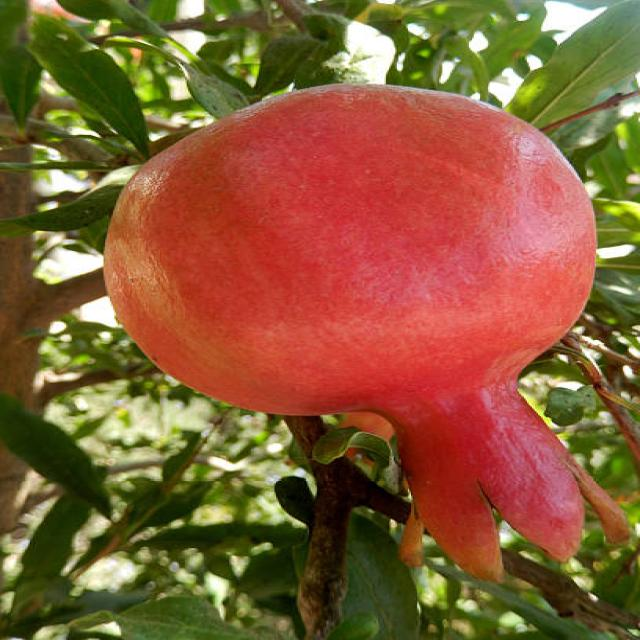Pomegranate: (102, 82, 640, 587)
